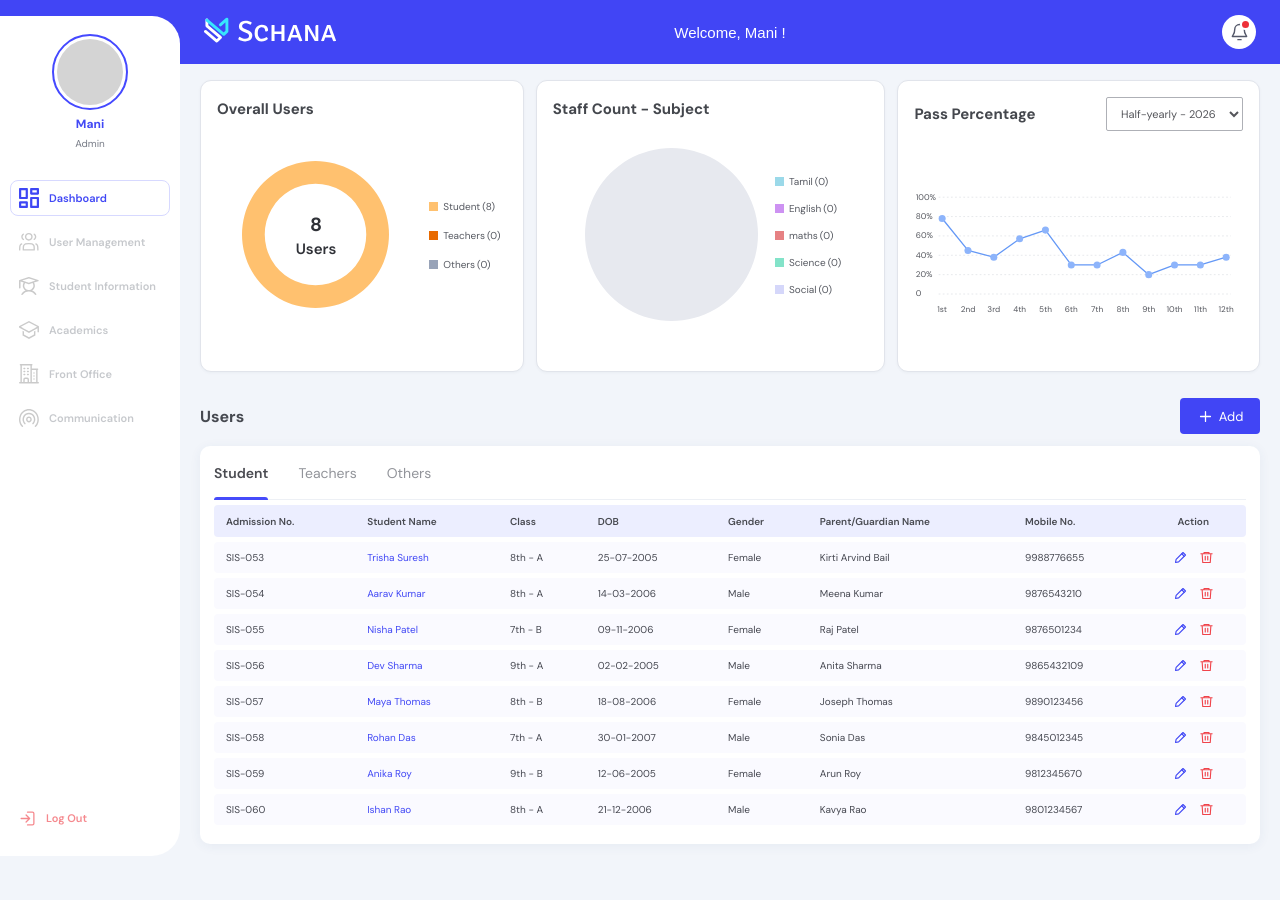
Test case: updates the subject chart when a teacher is added
Click the button "Add".
click(1220, 416)  # box [1180,398,1260,434]
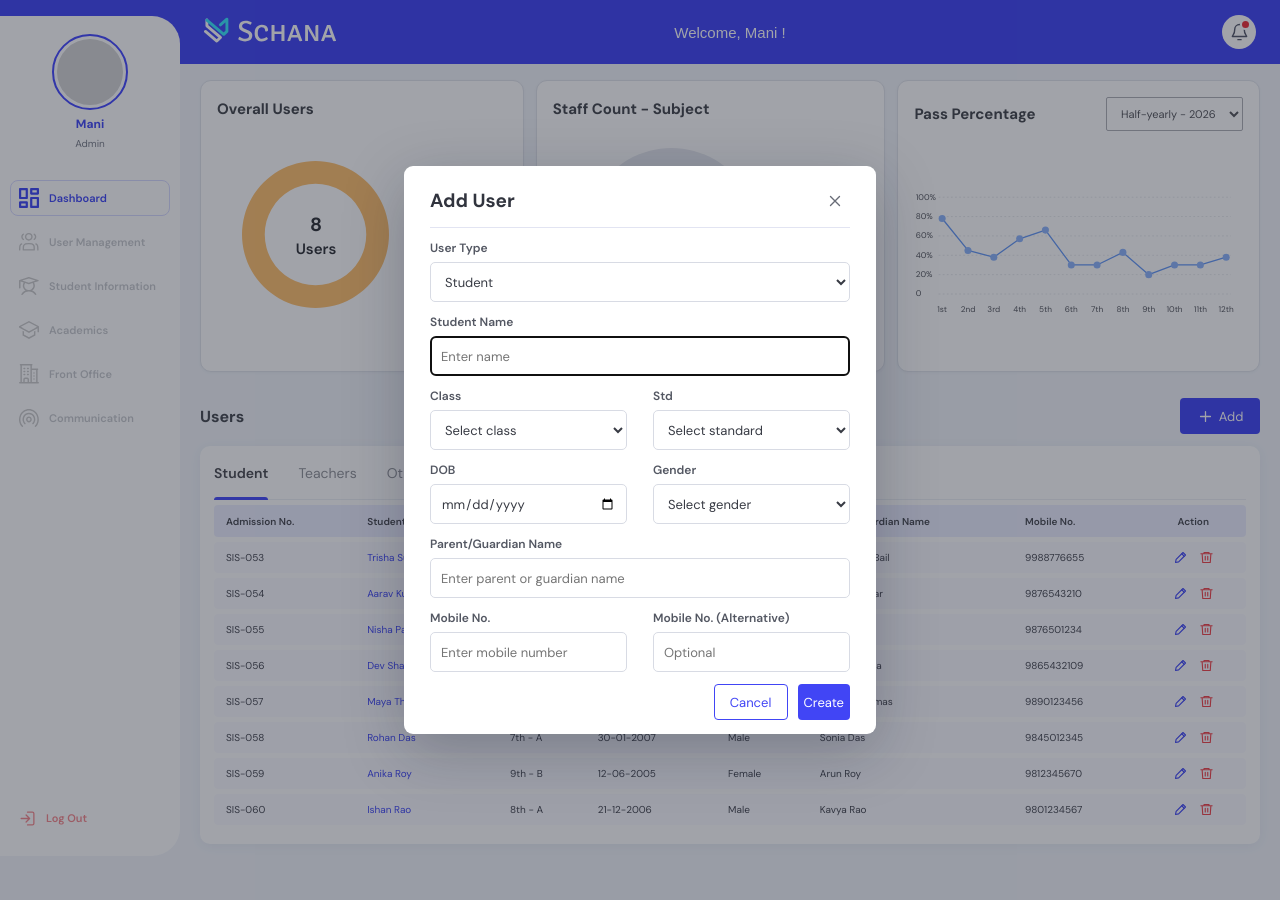
Select "Teacher" in the dropdown labelled "User Type" at (640, 282), box [430,262,850,302]
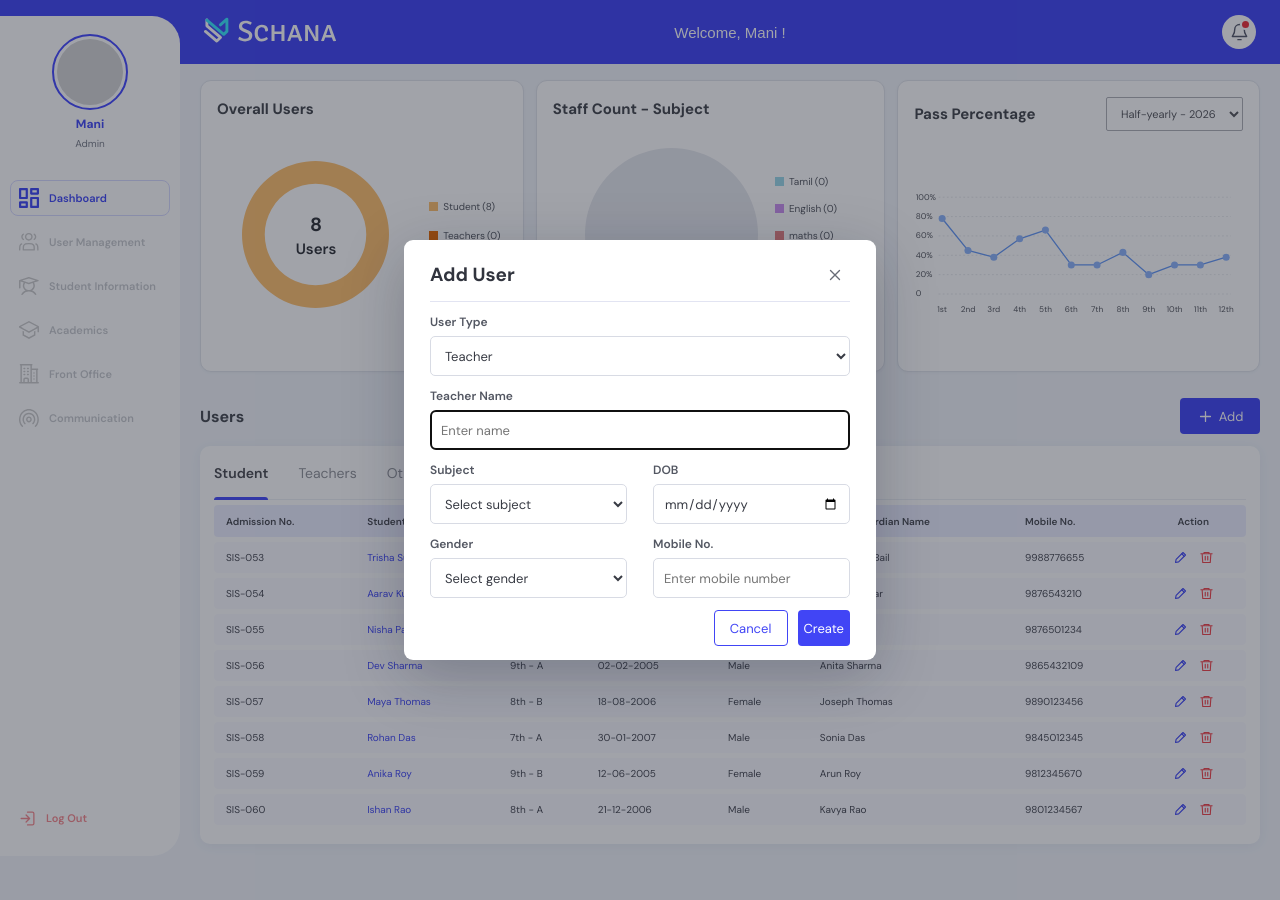
Type "Riya Teacher" into the field labelled "Teacher Name".
click(640, 430); type("Riya Teacher")  # box [430,410,850,450]
Select "Tamil" in the dropdown labelled "Subject" at (528, 504), box [430,484,627,524]
Type "1990-04-20" into the date field labelled "DOB".
click(752, 504); type("1990-04-20")  # box [653,484,850,524]
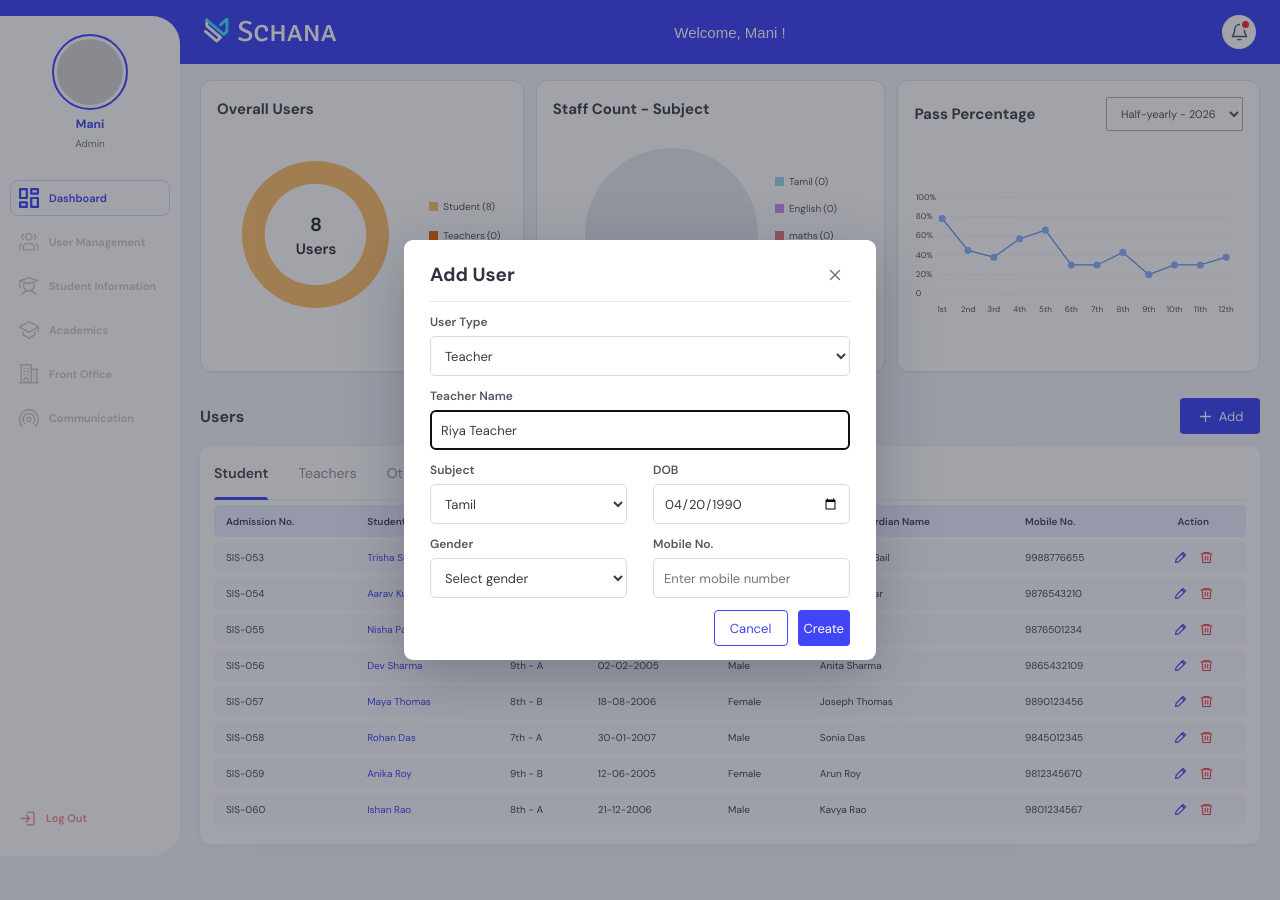
Select "Female" in the dropdown labelled "Gender" at (528, 578), box [430,558,627,598]
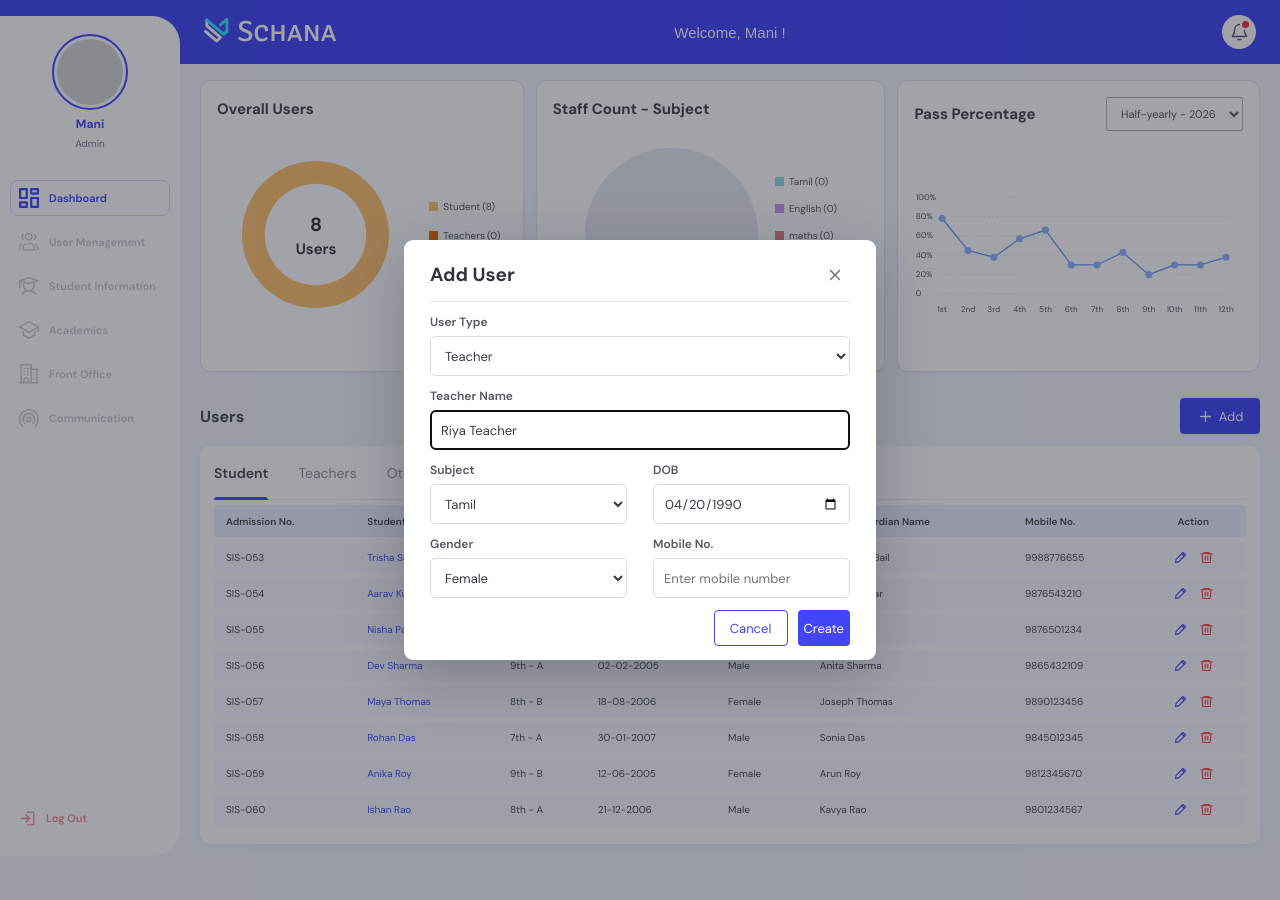
Type "9876543210" into the number field labelled "Mobile No.".
click(752, 578); type("9876543210")  # box [653,558,850,598]
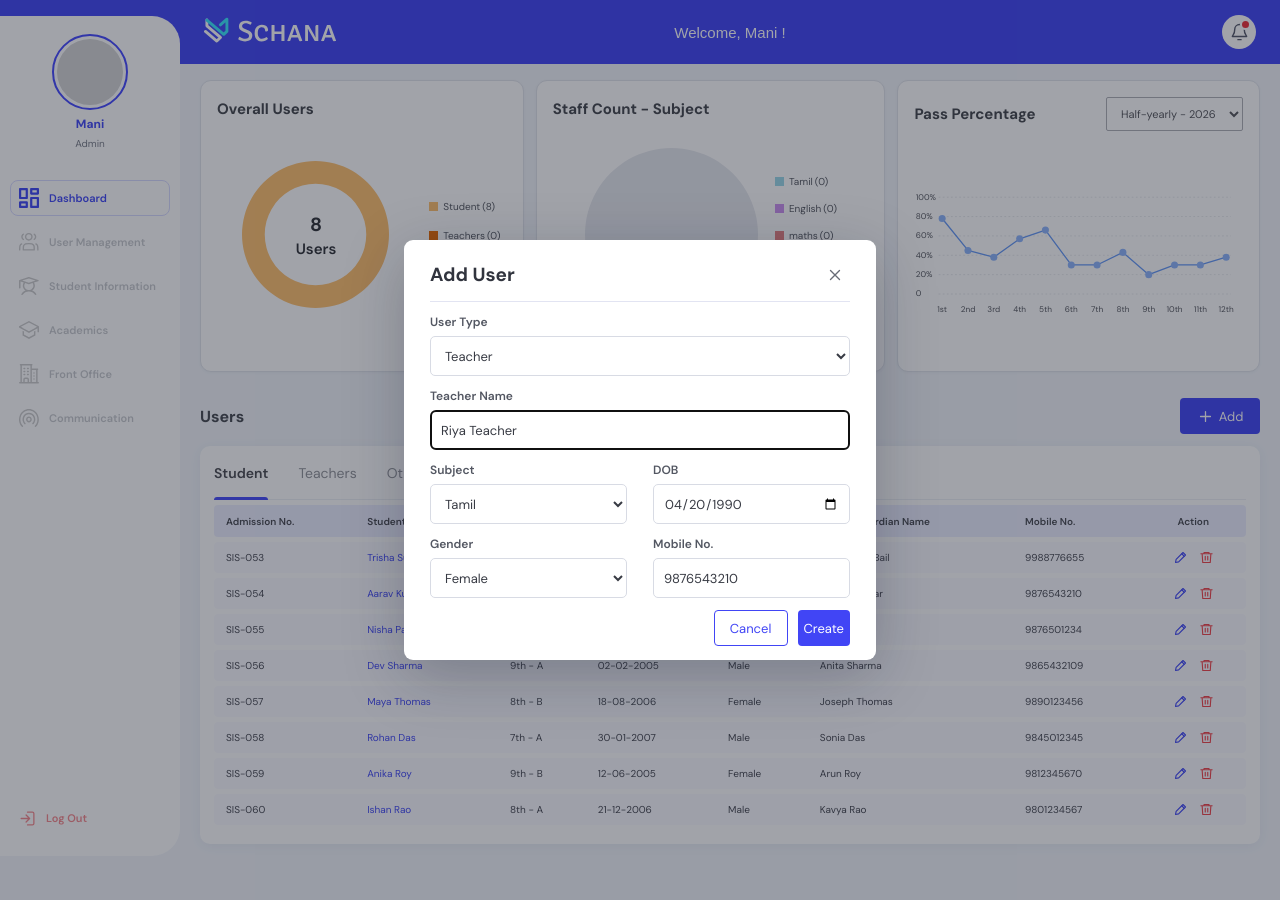
Click the button "Create".
click(824, 628)  # box [798,610,850,646]
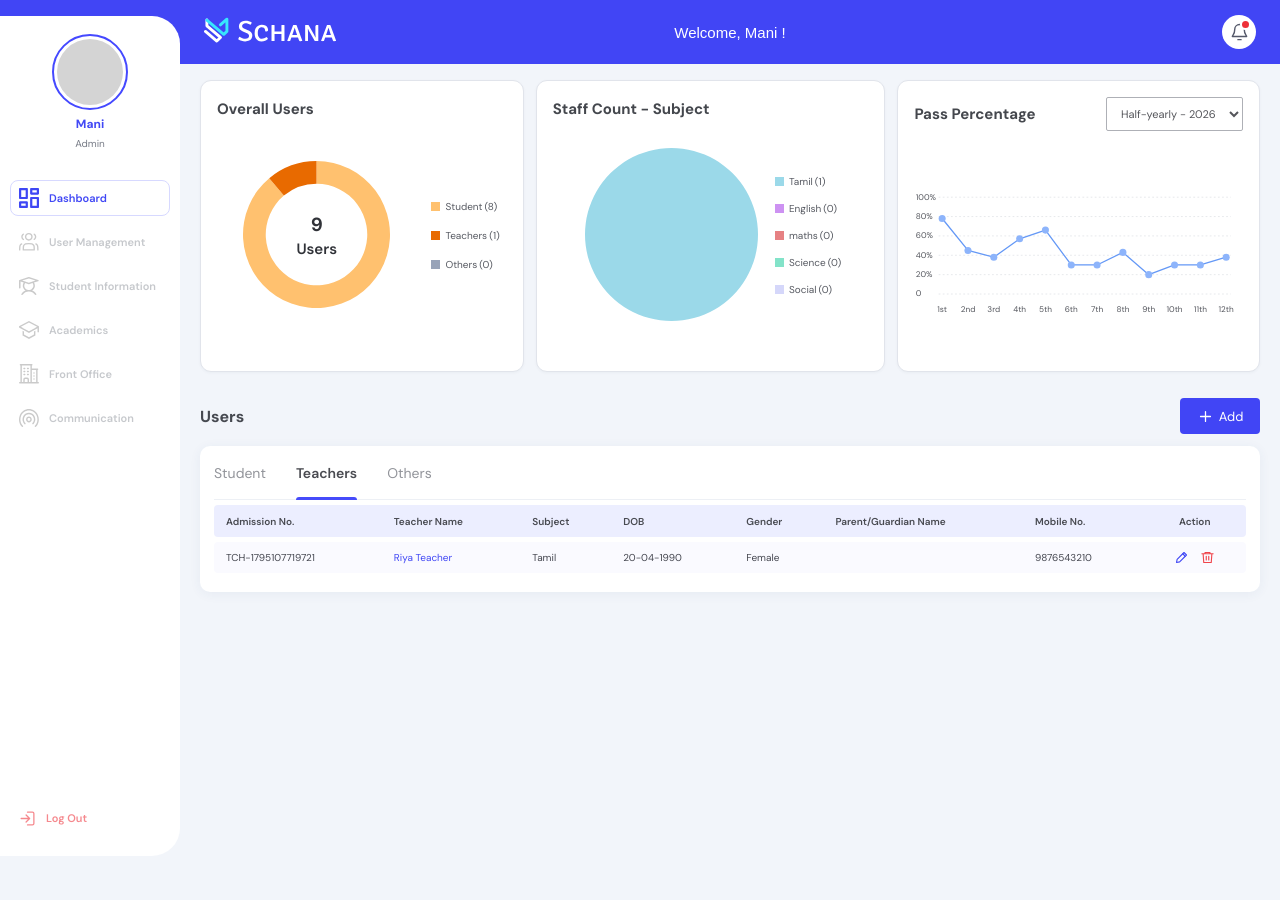
Expected: the picture named "9 total users: 8 students, 1 teachers, 0 other users" is shown, [224,142,409,328]
Expected: the picture named "Teacher subject counts: Tamil 1, English 0, maths 0, Science 0, Social 0" is shown, [580,144,763,327]
